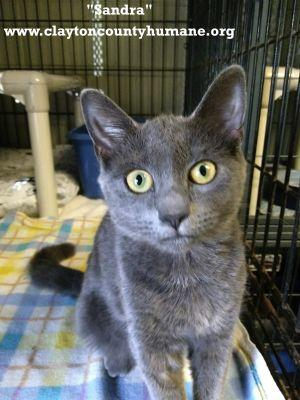rblue: (63, 65, 269, 276)
